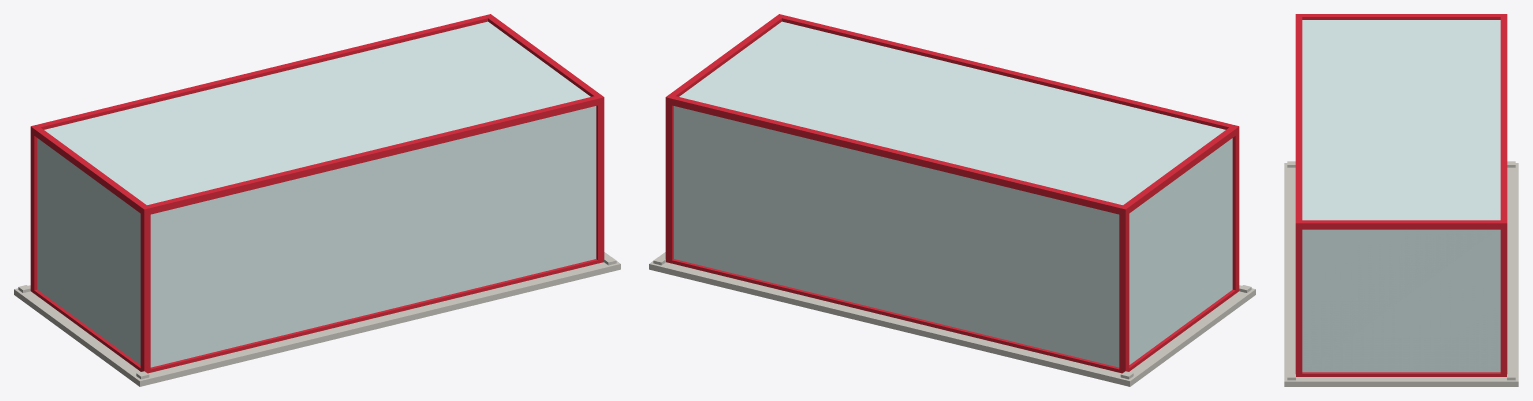
The model's file is porsche-911rsr-gt3.glb.
The picture shows the model from 3 angles, left to right: view 1: azimuth 30°, elevation 25°; view 2: azimuth 150°, elevation 25°; view 3: azimuth 270°, elevation 25°; orthographic projection. The views are drawn at different scales.
Size of the model in its own units: 0.53 by 0.1795 by 0.24.
